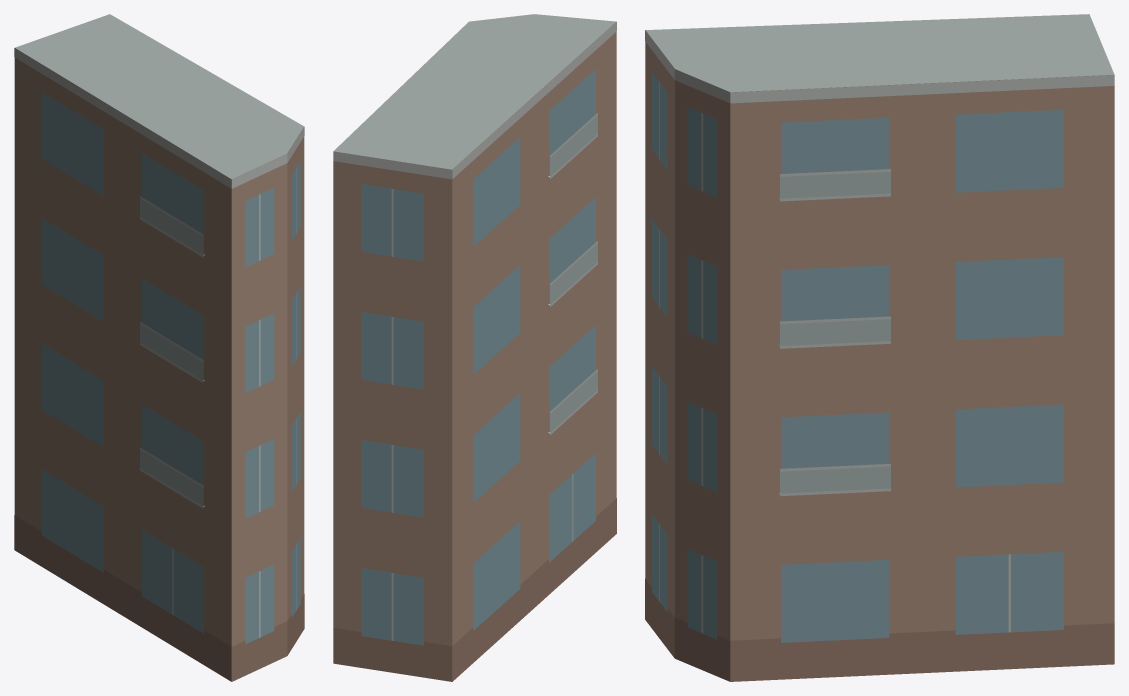
File: survey-upis-32897519.glb
The picture shows the model from 3 angles, left to right: view 1: azimuth 30°, elevation 25°; view 2: azimuth 150°, elevation 25°; view 3: azimuth 270°, elevation 25°; orthographic projection. The views are drawn at different scales.
Visible parts, largest first — view 1: survey-upis-32897519.tmp; view 2: survey-upis-32897519.tmp; view 3: survey-upis-32897519.tmp.
Part boxes in pixels (box(x1,y1,x2,y2)): survey-upis-32897519.tmp: box(14, 14, 304, 681); survey-upis-32897519.tmp: box(333, 14, 616, 681); survey-upis-32897519.tmp: box(645, 14, 1114, 681).
Bounding box in the file's own units: 3.68 × 12.9 × 9.32.
